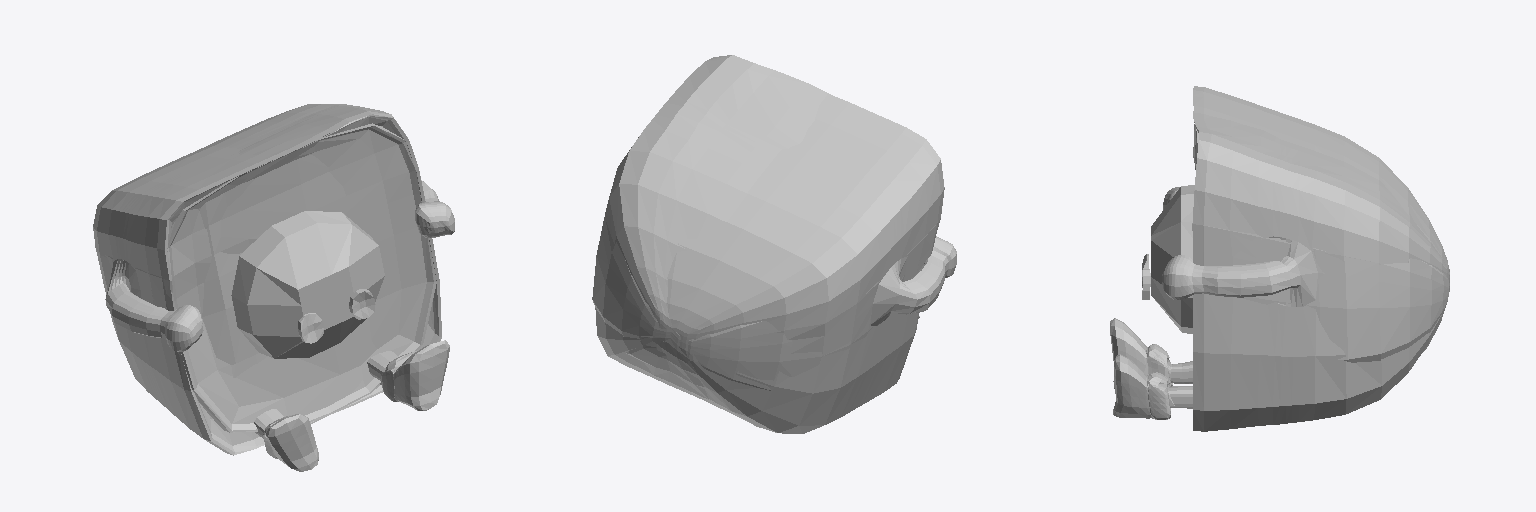
File: Pal_000022.obj
3 renders of one model, left to right at view 1: azimuth 30°, elevation 25°; view 2: azimuth 150°, elevation 25°; view 3: azimuth 270°, elevation 25°, orthographic.
Visible parts, largest first — view 1: Cuerpo_de_aguacate_3.001_Cube.002, Hueso_Cubo.003, Ojos_Cubo.002; view 2: Cuerpo_de_aguacate_3.001_Cube.002; view 3: Cuerpo_de_aguacate_3.001_Cube.002, Hueso_Cubo.003.
Boxes of the visible parts, x1=… form: Cuerpo_de_aguacate_3.001_Cube.002: x1=93, y1=104, x2=454, y2=471; Hueso_Cubo.003: x1=231, y1=211, x2=384, y2=358; Ojos_Cubo.002: x1=298, y1=289, x2=375, y2=343; Cuerpo_de_aguacate_3.001_Cube.002: x1=592, y1=55, x2=956, y2=433; Cuerpo_de_aguacate_3.001_Cube.002: x1=1110, y1=86, x2=1449, y2=431; Hueso_Cubo.003: x1=1151, y1=185, x2=1194, y2=333.
Size of the model in its own units: 1.05 by 0.9996 by 1.01.